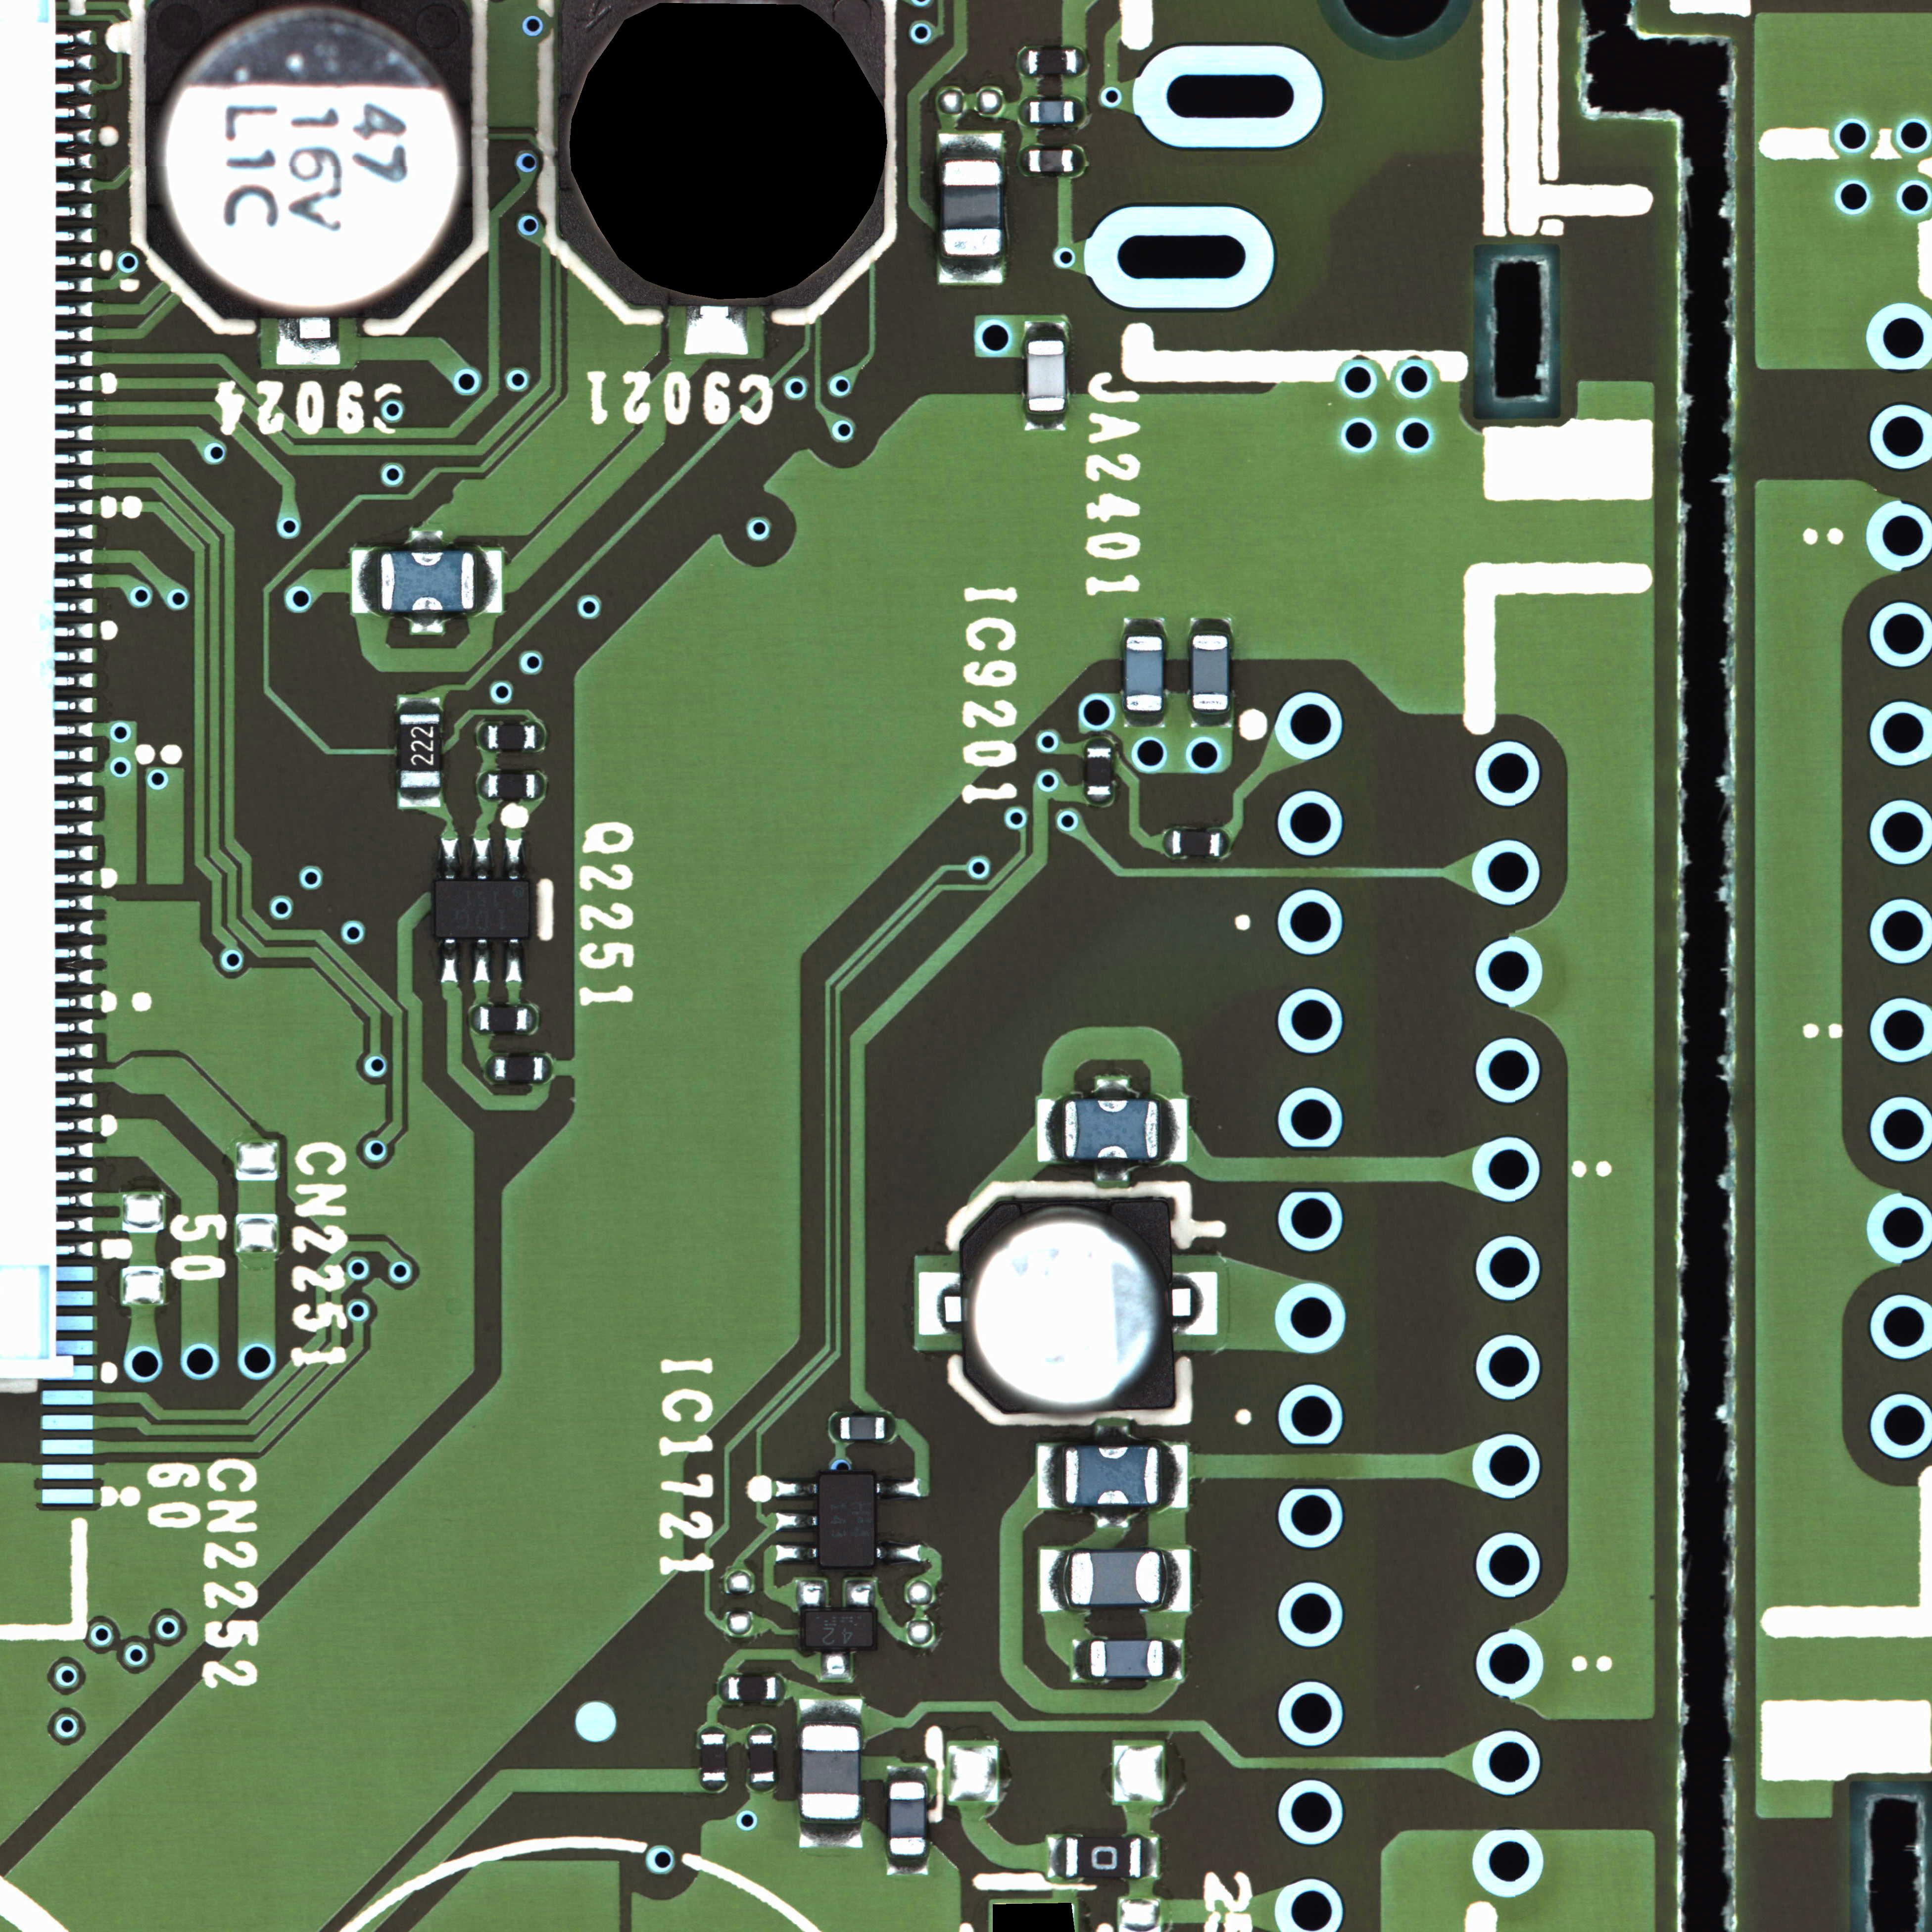Package: (134, 2, 494, 320), (961, 1200, 1173, 1415), (943, 161, 1001, 257), (801, 1725, 860, 1819), (819, 1474, 876, 1569), (382, 552, 474, 610), (435, 881, 529, 938), (1067, 1100, 1157, 1159), (1067, 1449, 1157, 1504), (1072, 1553, 1161, 1603), (1067, 1836, 1141, 1877), (400, 715, 441, 787), (803, 1610, 876, 1649), (1125, 635, 1162, 709), (888, 1782, 925, 1856), (1028, 340, 1065, 410), (1192, 635, 1228, 709), (1092, 1640, 1162, 1675), (1173, 830, 1219, 856), (750, 1736, 777, 1782), (488, 724, 534, 748), (490, 773, 536, 798), (702, 1734, 727, 1780), (1030, 50, 1076, 73), (1088, 748, 1111, 794), (495, 1058, 543, 1079), (481, 1008, 527, 1030), (1028, 150, 1074, 172), (729, 1677, 775, 1698), (1030, 101, 1074, 122), (840, 1417, 885, 1438)
Solder: (686, 308, 748, 357), (1173, 1270, 1219, 1336), (276, 320, 340, 364), (920, 1272, 959, 1336), (801, 1697, 862, 1725), (803, 1819, 862, 1847), (943, 136, 1003, 163), (359, 550, 382, 610), (943, 257, 1003, 280), (1047, 1552, 1072, 1603), (1157, 1100, 1178, 1159), (1157, 1447, 1178, 1506), (1161, 1552, 1182, 1606), (474, 552, 494, 610), (1046, 1100, 1065, 1157), (1046, 1447, 1065, 1504), (819, 1649, 851, 1679), (878, 1543, 922, 1564), (846, 1578, 876, 1608), (876, 1477, 922, 1497), (775, 1511, 819, 1530), (474, 837, 492, 881), (504, 837, 522, 881), (441, 938, 458, 982), (506, 938, 524, 982), (441, 837, 458, 879), (472, 939, 490, 982), (798, 1580, 824, 1608), (1162, 1640, 1182, 1677), (1191, 619, 1231, 637), (777, 1545, 817, 1562), (888, 1856, 929, 1874), (773, 1479, 817, 1495), (1125, 617, 1164, 635), (888, 1764, 927, 1782), (1028, 322, 1065, 340), (1192, 709, 1230, 727), (1141, 1836, 1157, 1877), (1074, 1640, 1092, 1675), (400, 697, 439, 713), (1028, 410, 1067, 426), (1125, 709, 1162, 725), (1051, 1836, 1065, 1877), (400, 789, 442, 801), (534, 724, 547, 748), (479, 773, 490, 798), (536, 775, 547, 800), (1086, 736, 1111, 747), (1086, 794, 1111, 805), (702, 1782, 727, 1792), (1164, 828, 1173, 856), (1219, 830, 1228, 856), (750, 1725, 777, 1734), (775, 1677, 786, 1698), (717, 1677, 727, 1698), (479, 722, 488, 747), (527, 1007, 536, 1031), (543, 1056, 552, 1081), (1021, 48, 1030, 73), (752, 1782, 777, 1790), (472, 1007, 481, 1030), (1076, 50, 1085, 73), (1074, 149, 1083, 172), (832, 1415, 840, 1438), (1021, 147, 1028, 173), (885, 1417, 893, 1438), (702, 1725, 727, 1732), (488, 1058, 495, 1081), (1076, 101, 1083, 124), (1023, 101, 1030, 122)
